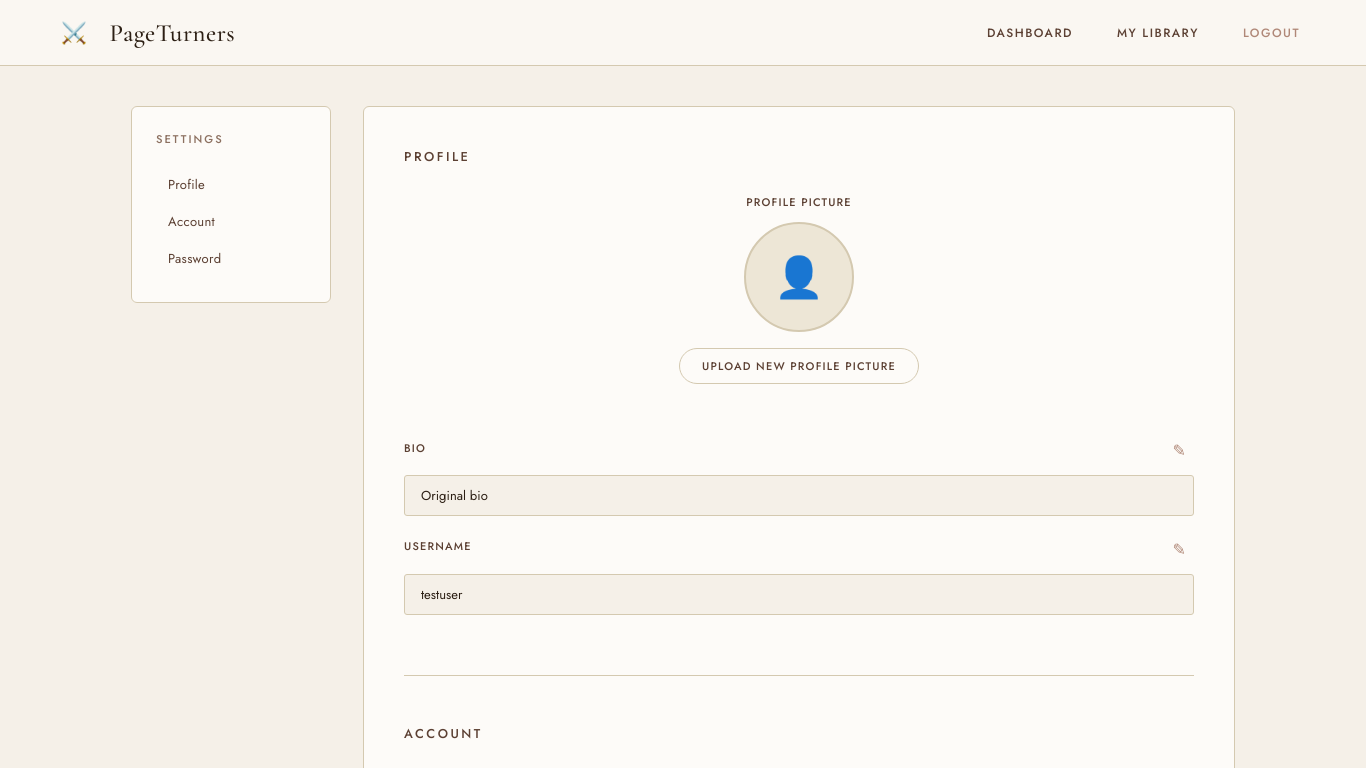
Test: Update Profile Fields › Should save username successfully
Check: the text "testuser" is shown, box top-left (404, 574), bottom-right (1194, 615)
# Wait for page to load, then click edit for username
Click the button titled "Edit" in the row of "Username". click: point(1179, 549)
box: top-left (1165, 536), bottom-right (1194, 562)
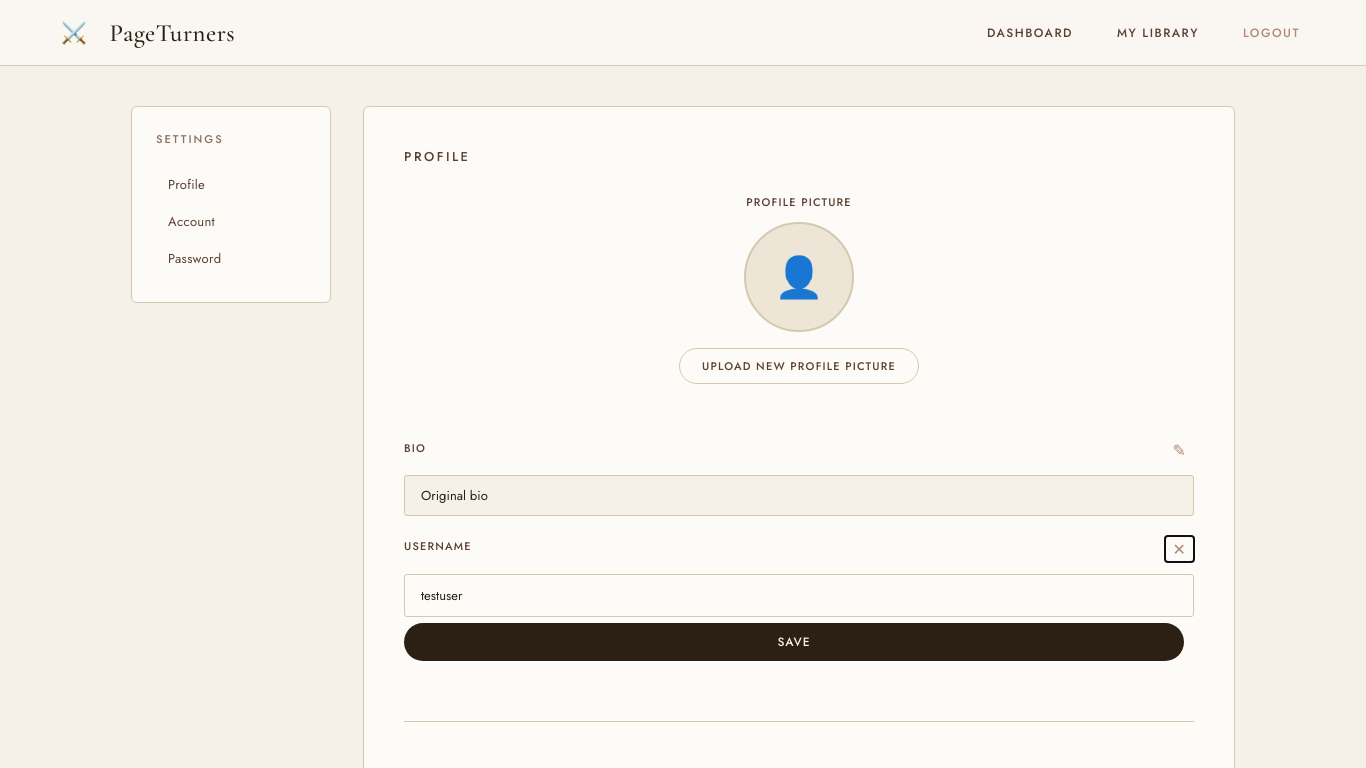
Replace the text in the field with placeholder "Your username" with "newusername". click: point(799, 595)
box: top-left (404, 574), bottom-right (1194, 617)
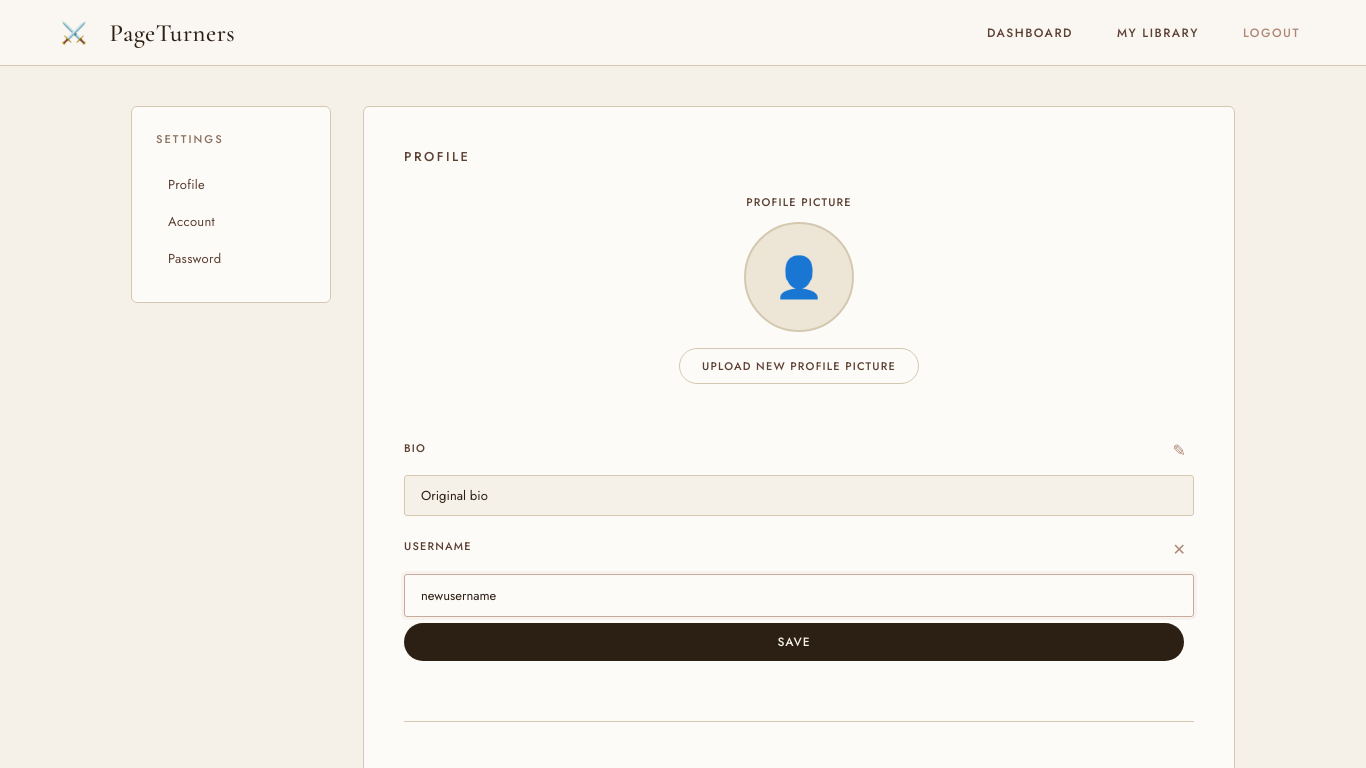
Click the button "Save". click: point(794, 642)
box: top-left (404, 623), bottom-right (1184, 661)
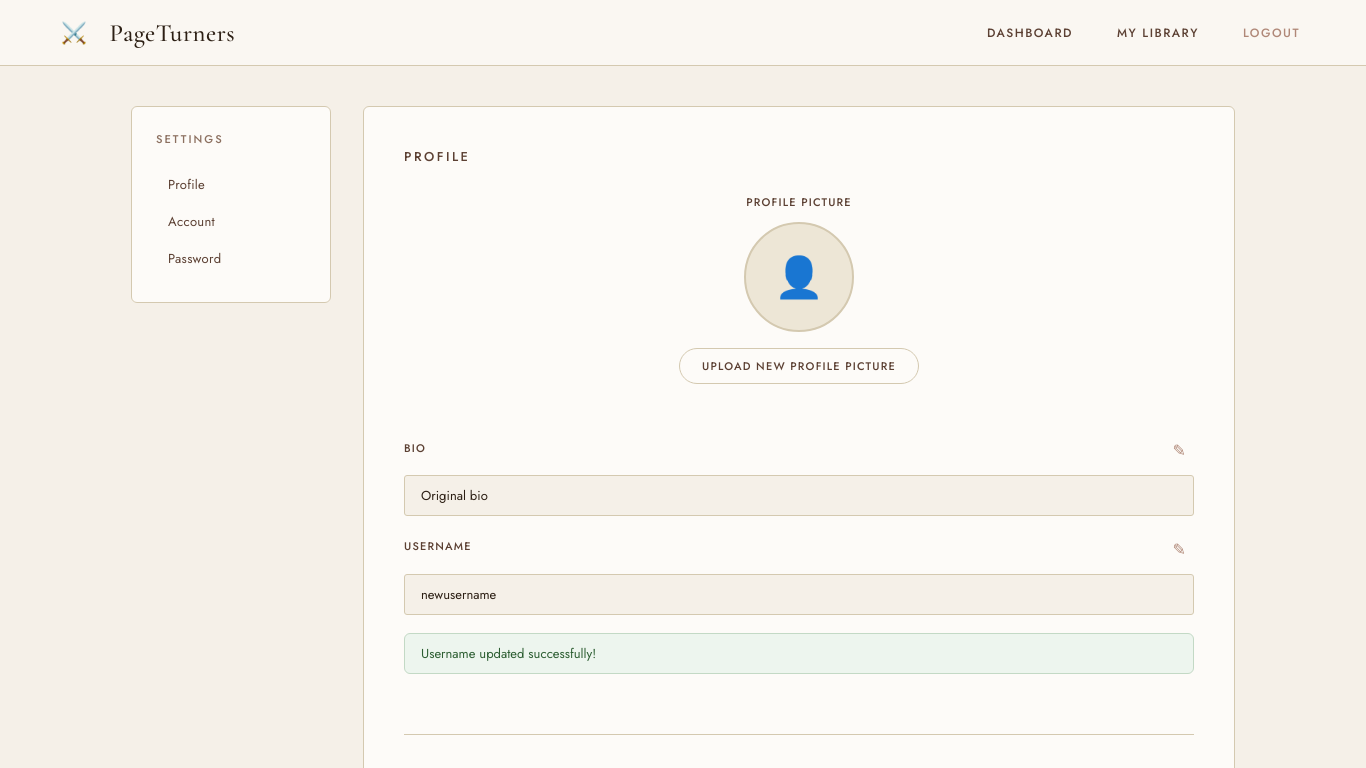
Check: the text "Username updated successfully!" is shown, box top-left (404, 633), bottom-right (1194, 674)
